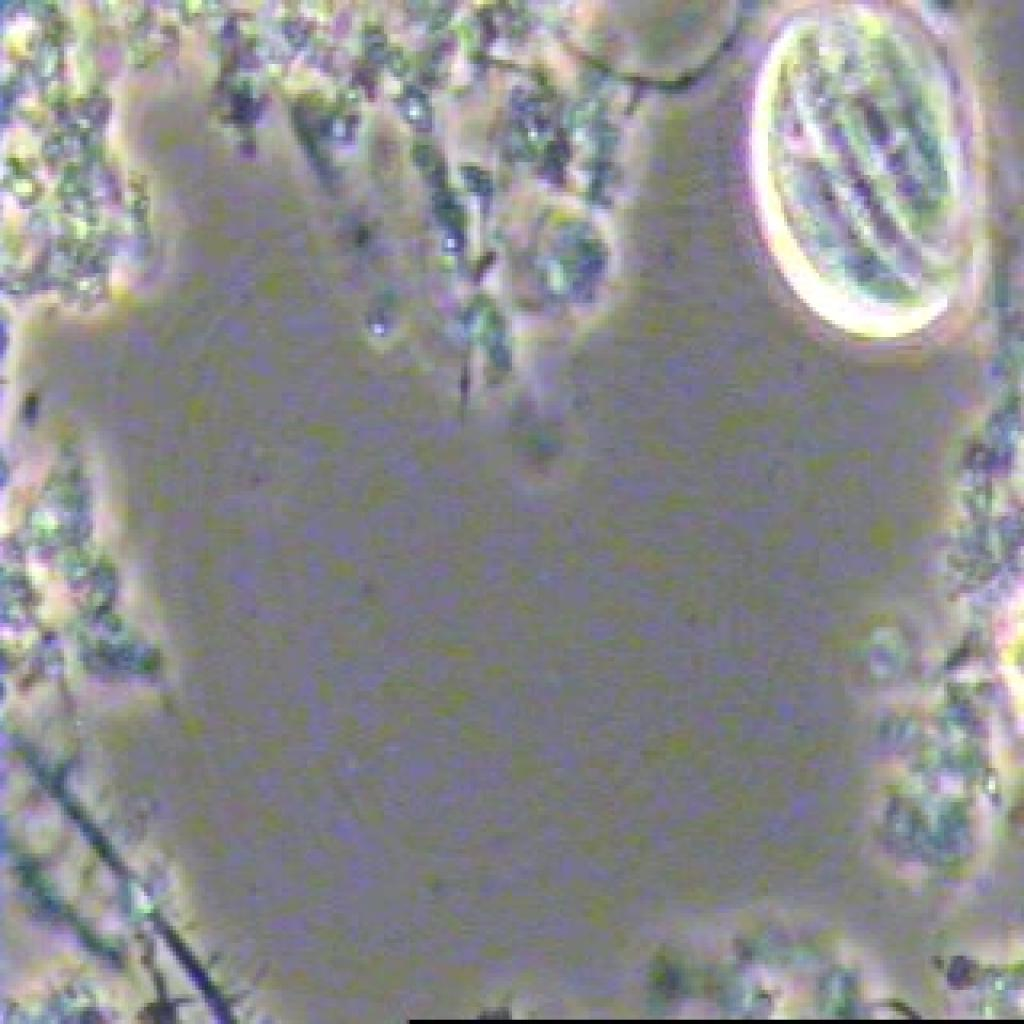Aspidisca: (686, 4, 1016, 384)
